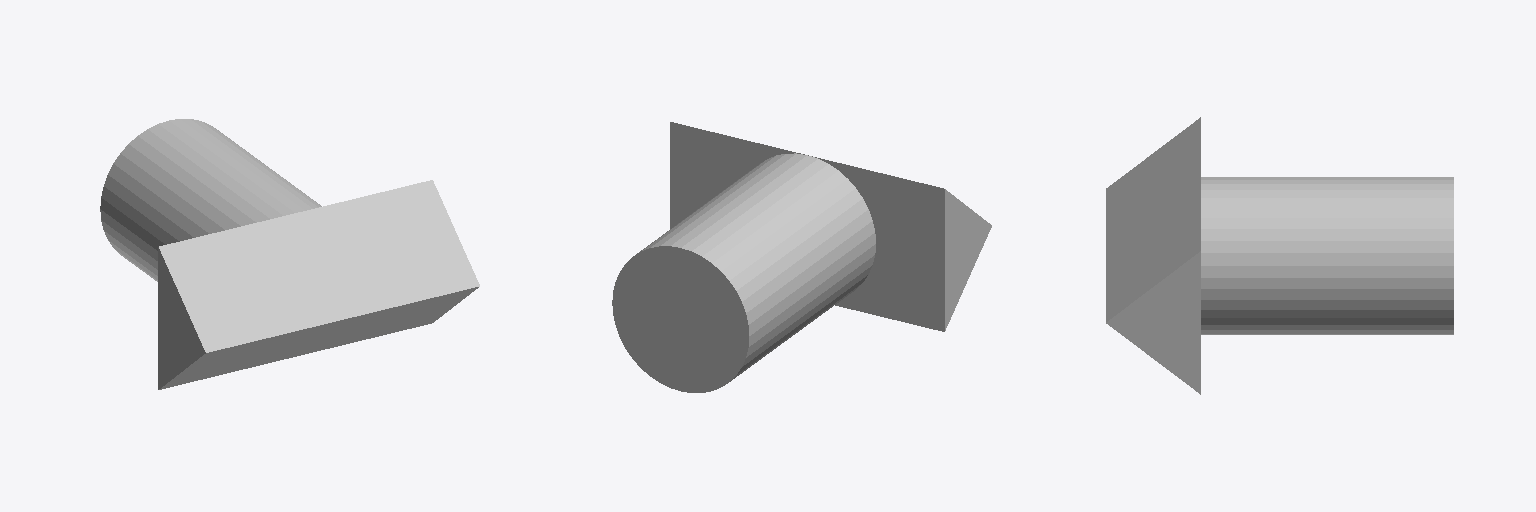
File: rotator_sharp.obj
The picture shows the model from 3 angles: view 1: azimuth 30°, elevation 25°; view 2: azimuth 150°, elevation 25°; view 3: azimuth 270°, elevation 25°; orthographic projection.
Visible parts, largest first — view 1: Solid1; view 2: Solid1; view 3: Solid1.
Boxes of the visible parts, box(x1,y1,x2,y2) form: Solid1: box(100, 119, 479, 389); Solid1: box(612, 122, 991, 392); Solid1: box(1106, 117, 1453, 394).
Size of the model in its own units: 0.1 by 0.05 by 0.11.